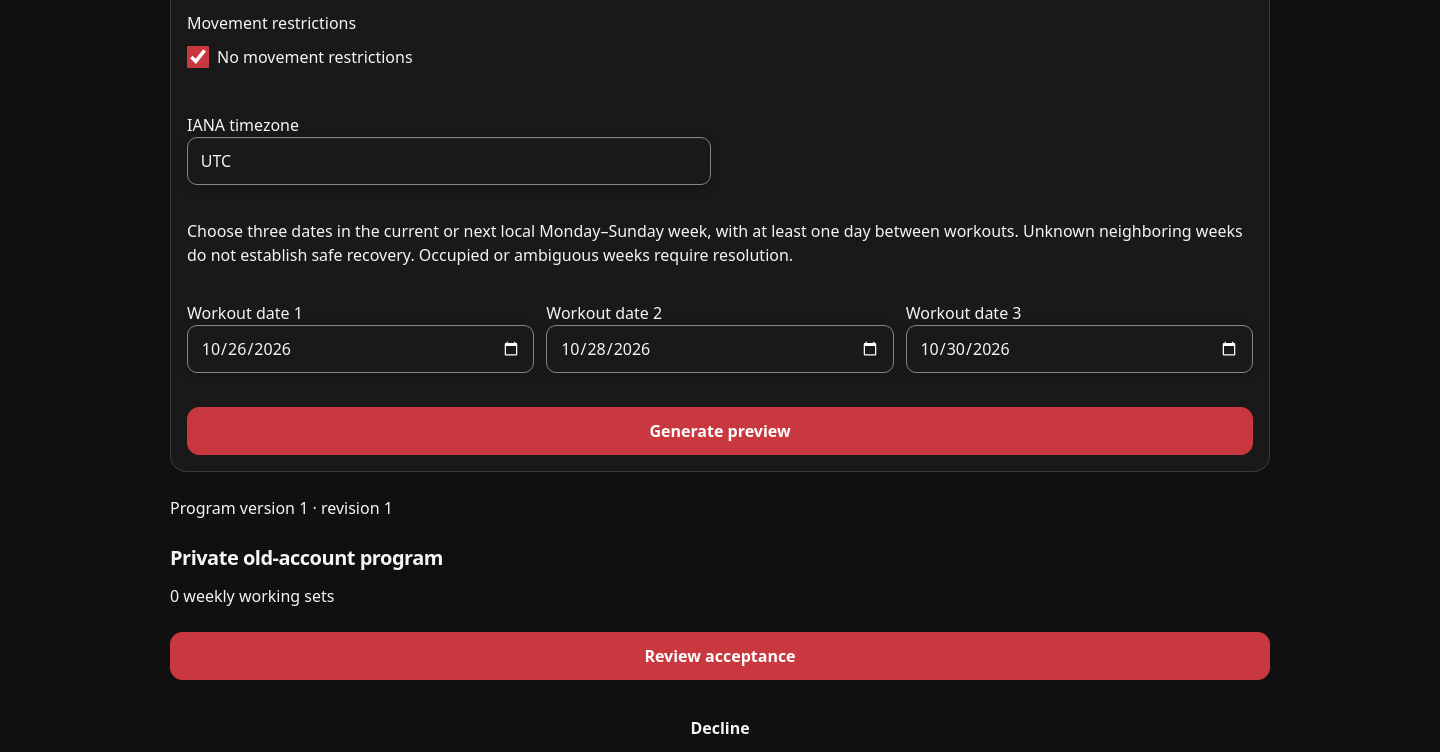
it: a conflict refresh cannot hydrate the prior proposal after an account change
(page scrolled)
expect the heading "Private old-account program" is shown: met, box [170, 544, 443, 571]
Click the button "Review acceptance" at (720, 656), box [170, 632, 1270, 680]
(page scrolled)
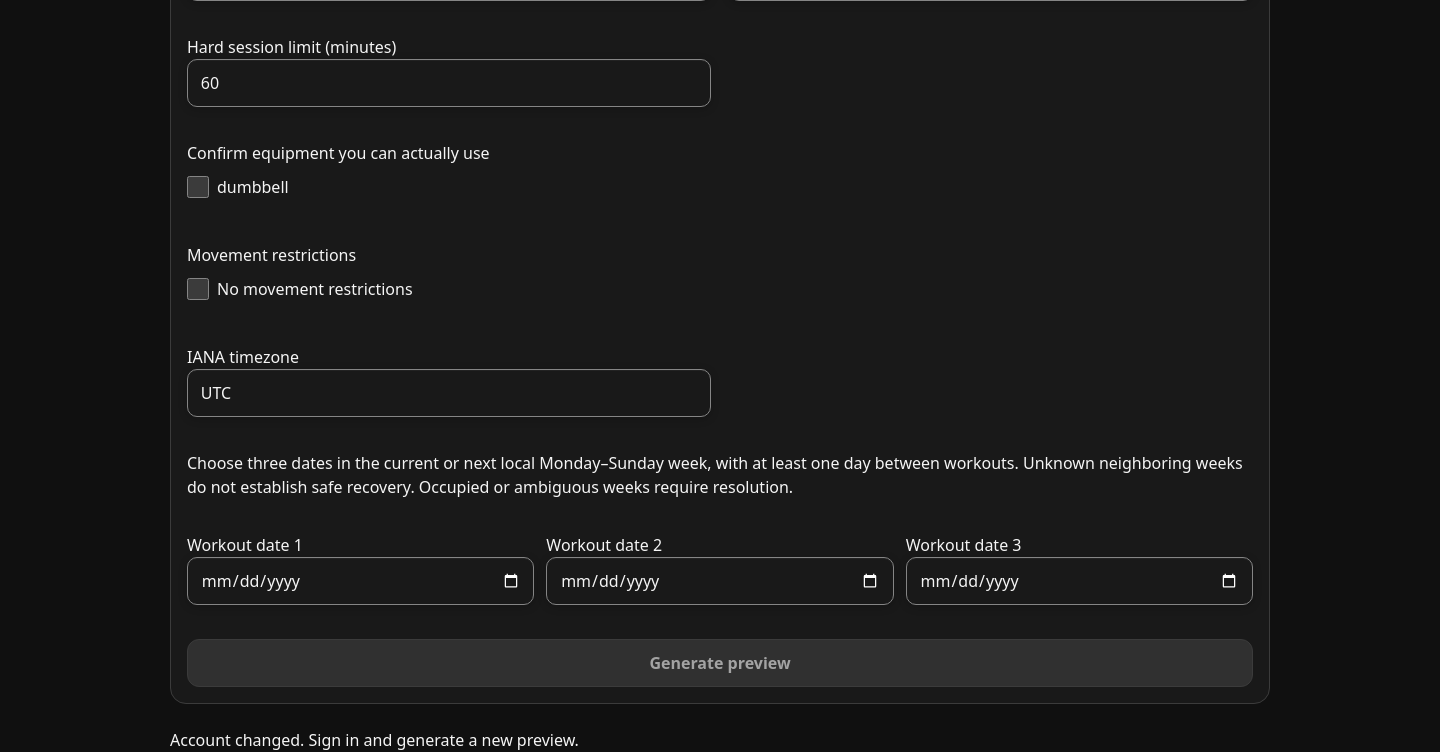
expect the heading "Private old-account program" is gone: met
